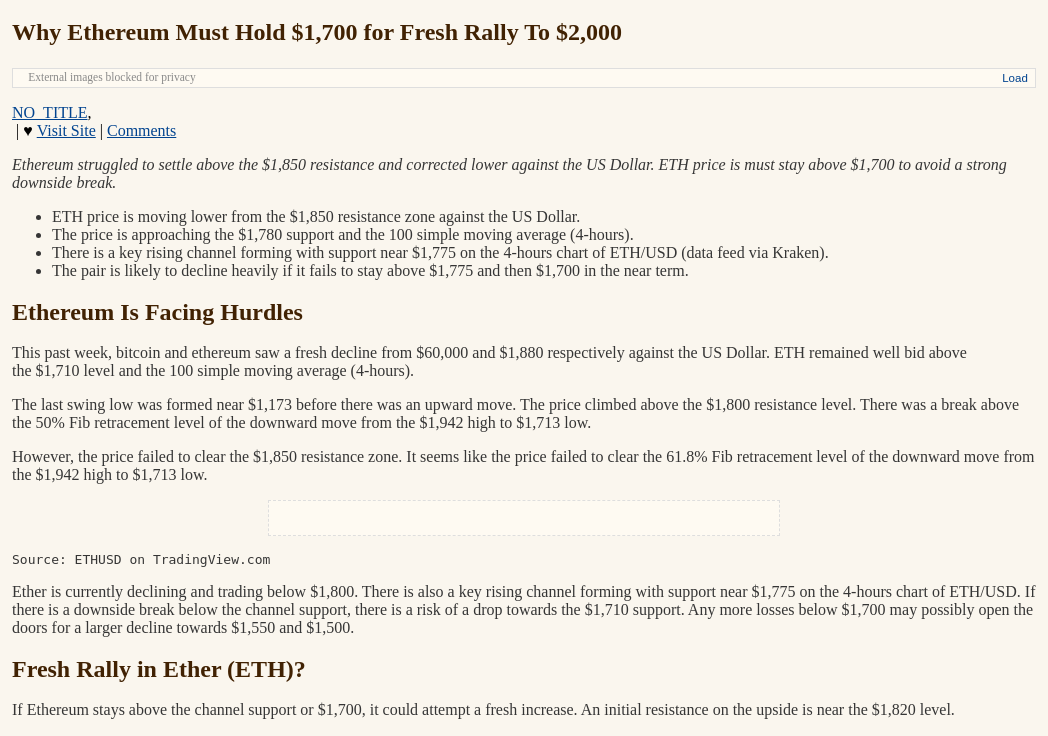
it: loads external images when toggled for an article
Click the button "Load" at x=1015, y=78, box top-left (1002, 72), bottom-right (1028, 84)
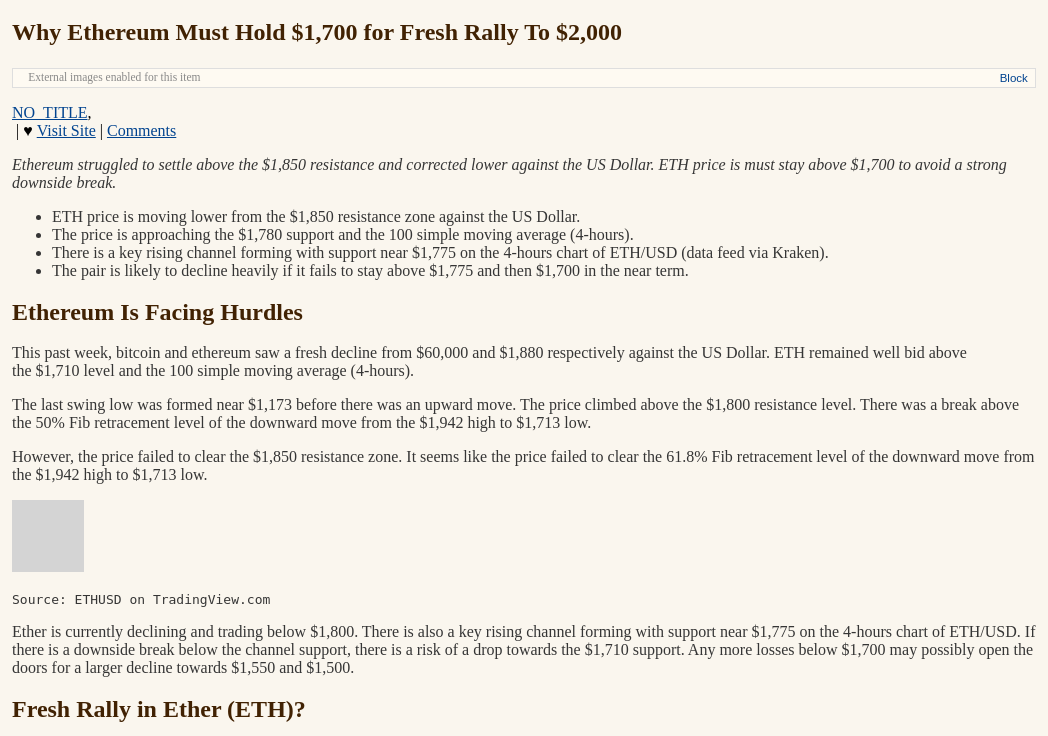
Check: the picture with class "blocked-external-image" is gone
